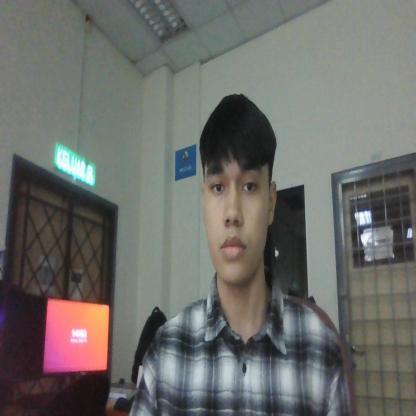Open-Eyes: (206, 162, 266, 211)
